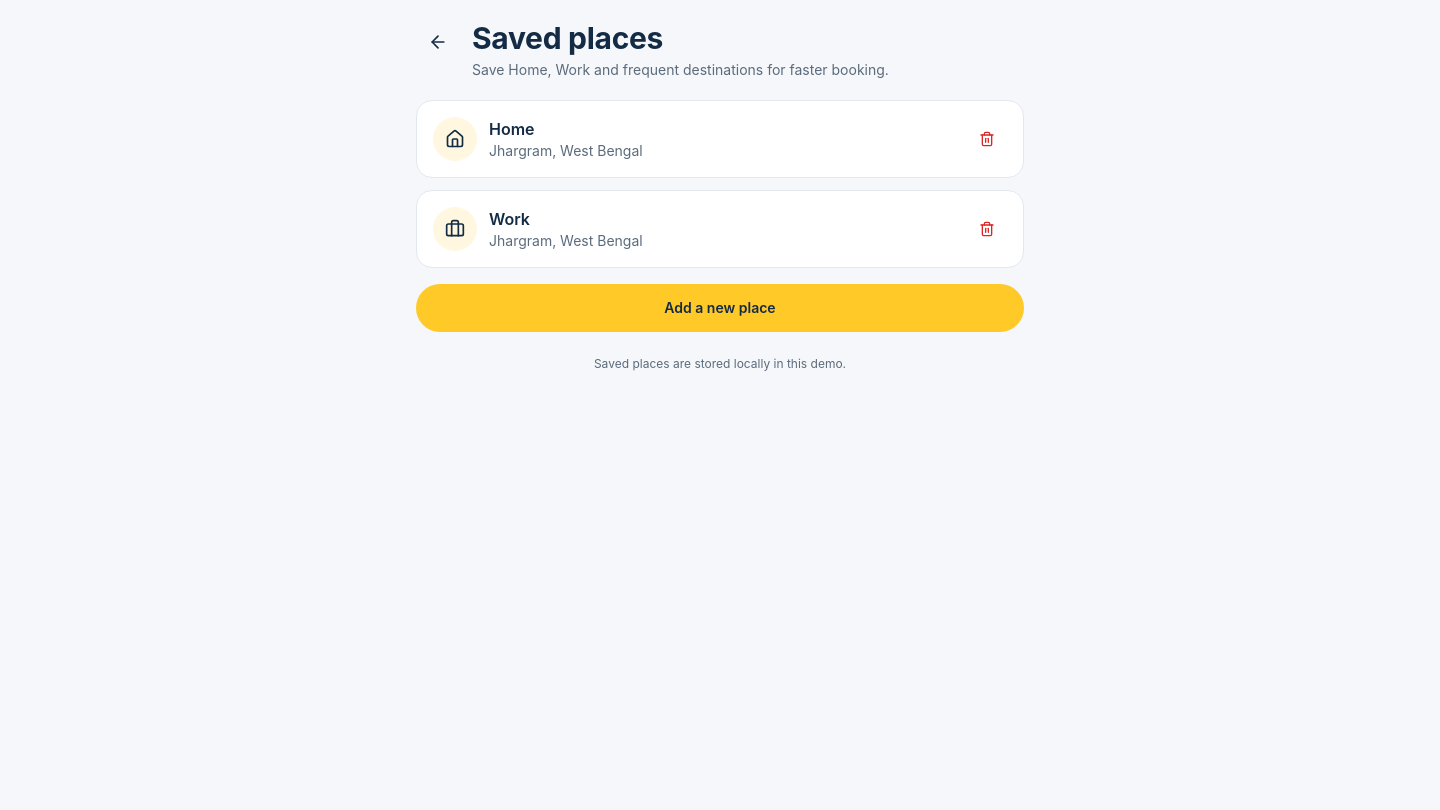
Test: saved places › adds and removes a place
This screenshot has width=1440, height=810.
Later steps or results of the test are not shown.
Expected: the button named "Remove Home" is shown, [967,119,1007,159]
Expected: the button named "Remove Work" is shown, [967,209,1007,249]
Click the button "Add a new place" at (720, 308), box [416,284,1024,332]
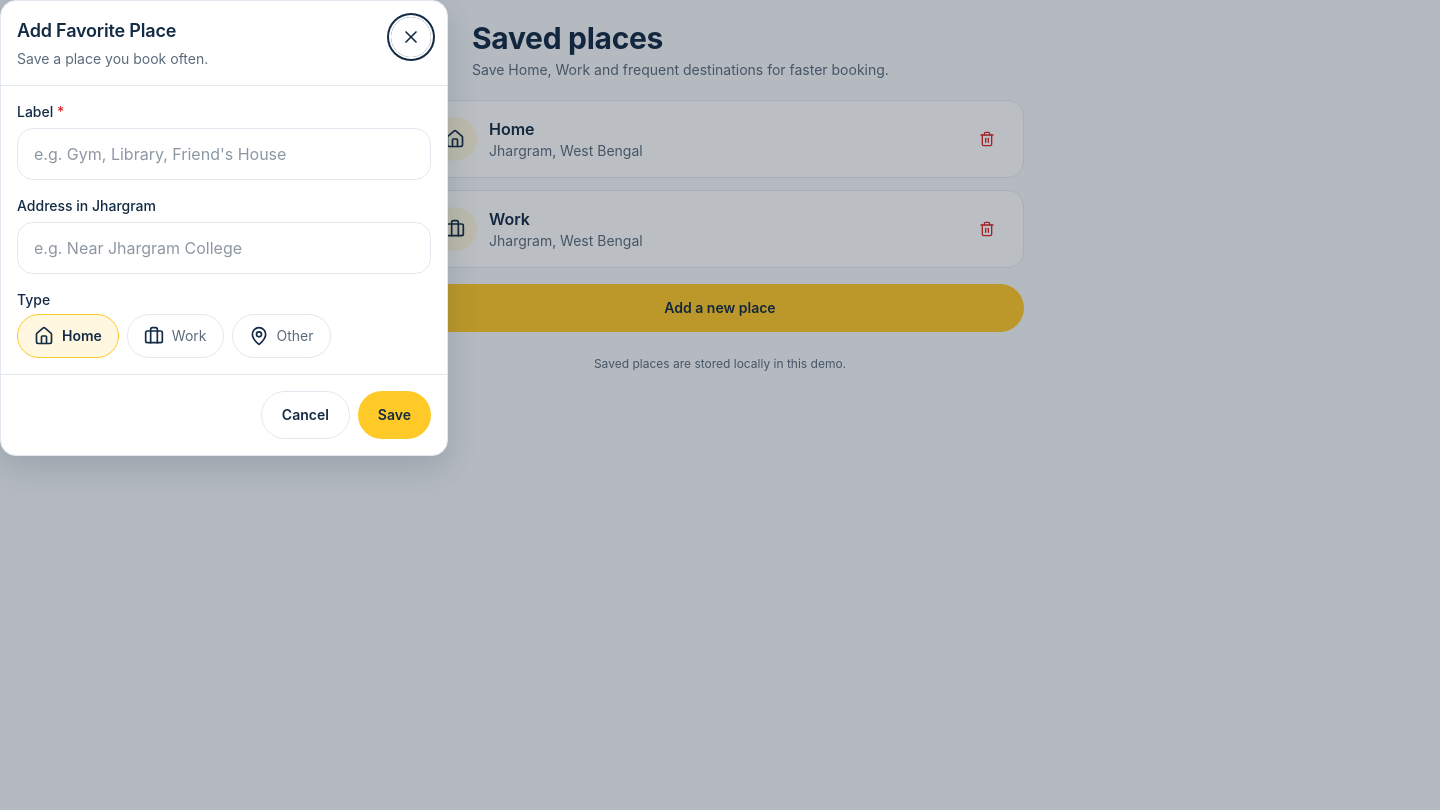
Type "Gym" into the field labelled "Label *" at (224, 154), box [17,128,431,180]
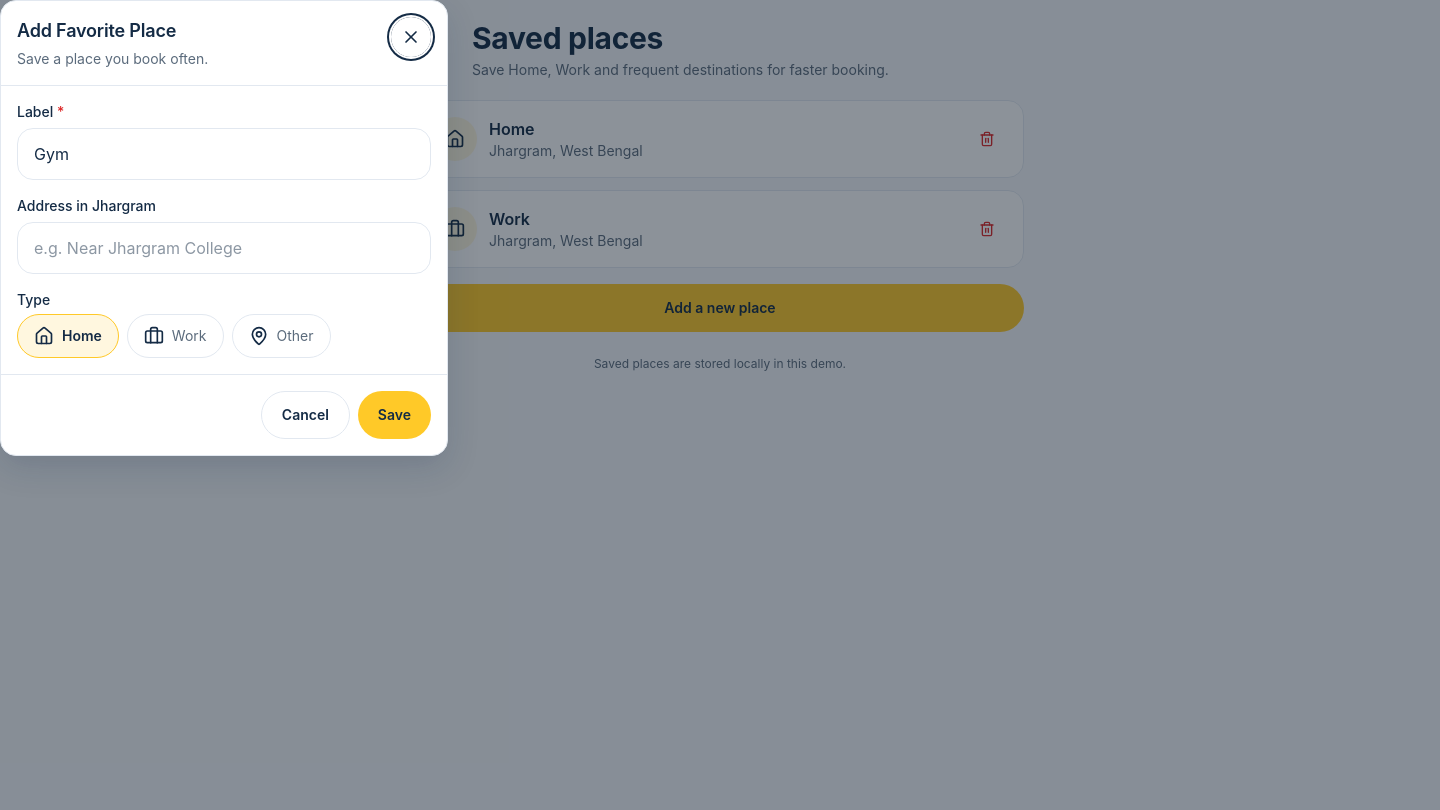
Click the radio button labelled "Other" at (281, 336), box [232,314,330,358]
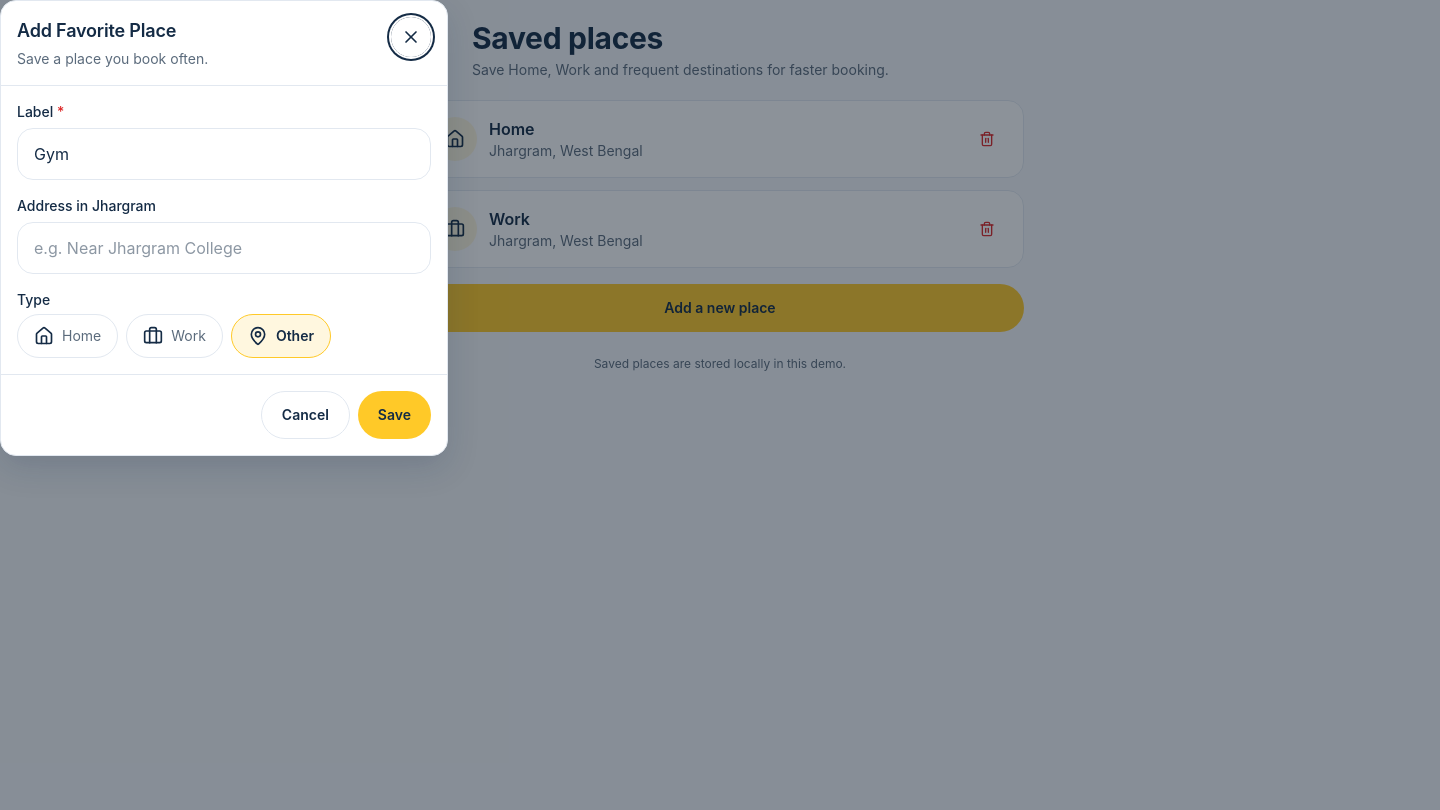
Click the button "Save" at (394, 415), box [358,391,431,439]
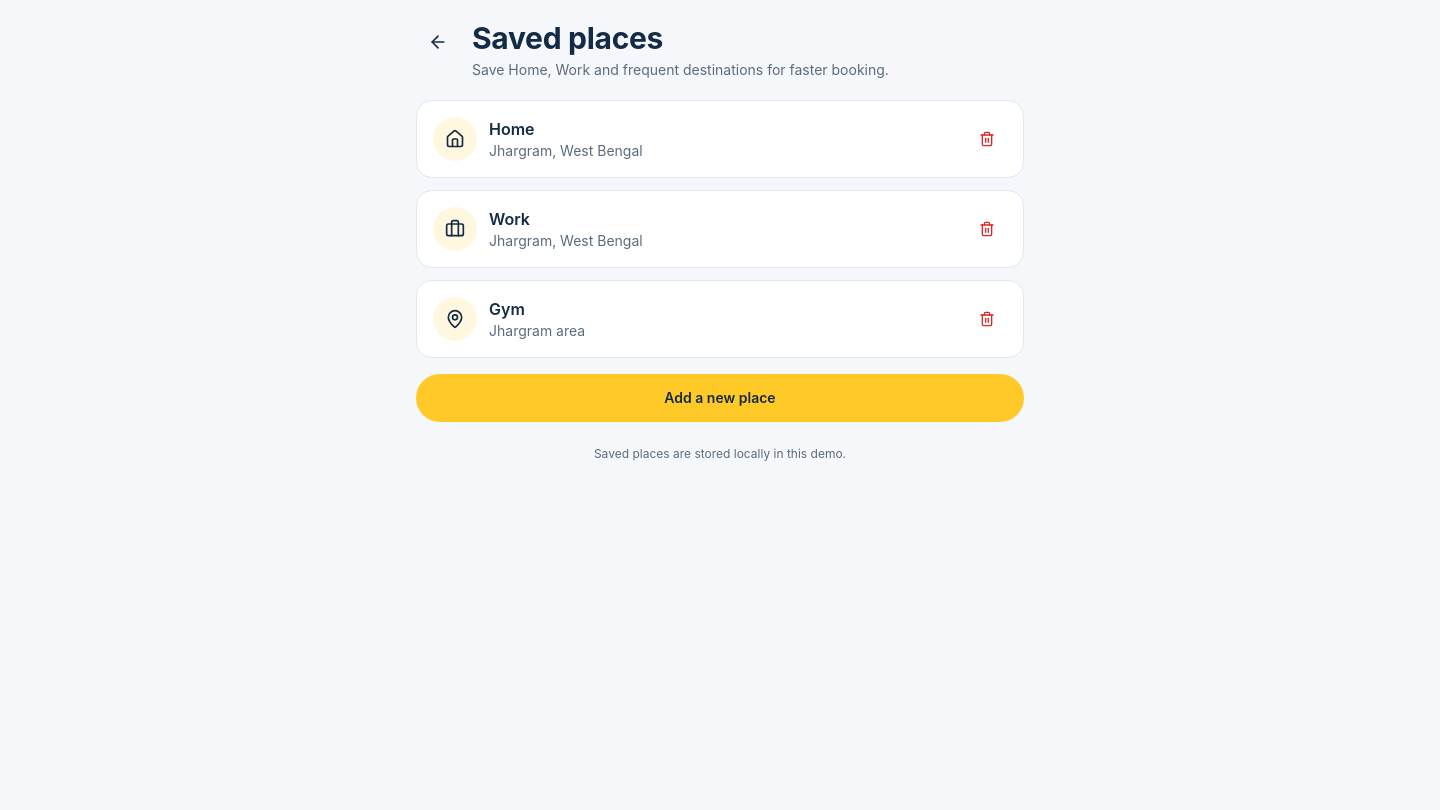
Now the button named "Remove Gym" is shown, box [967,299,1007,339]
Now the text "Jhargram area" is shown, box [489,322,585,339]
